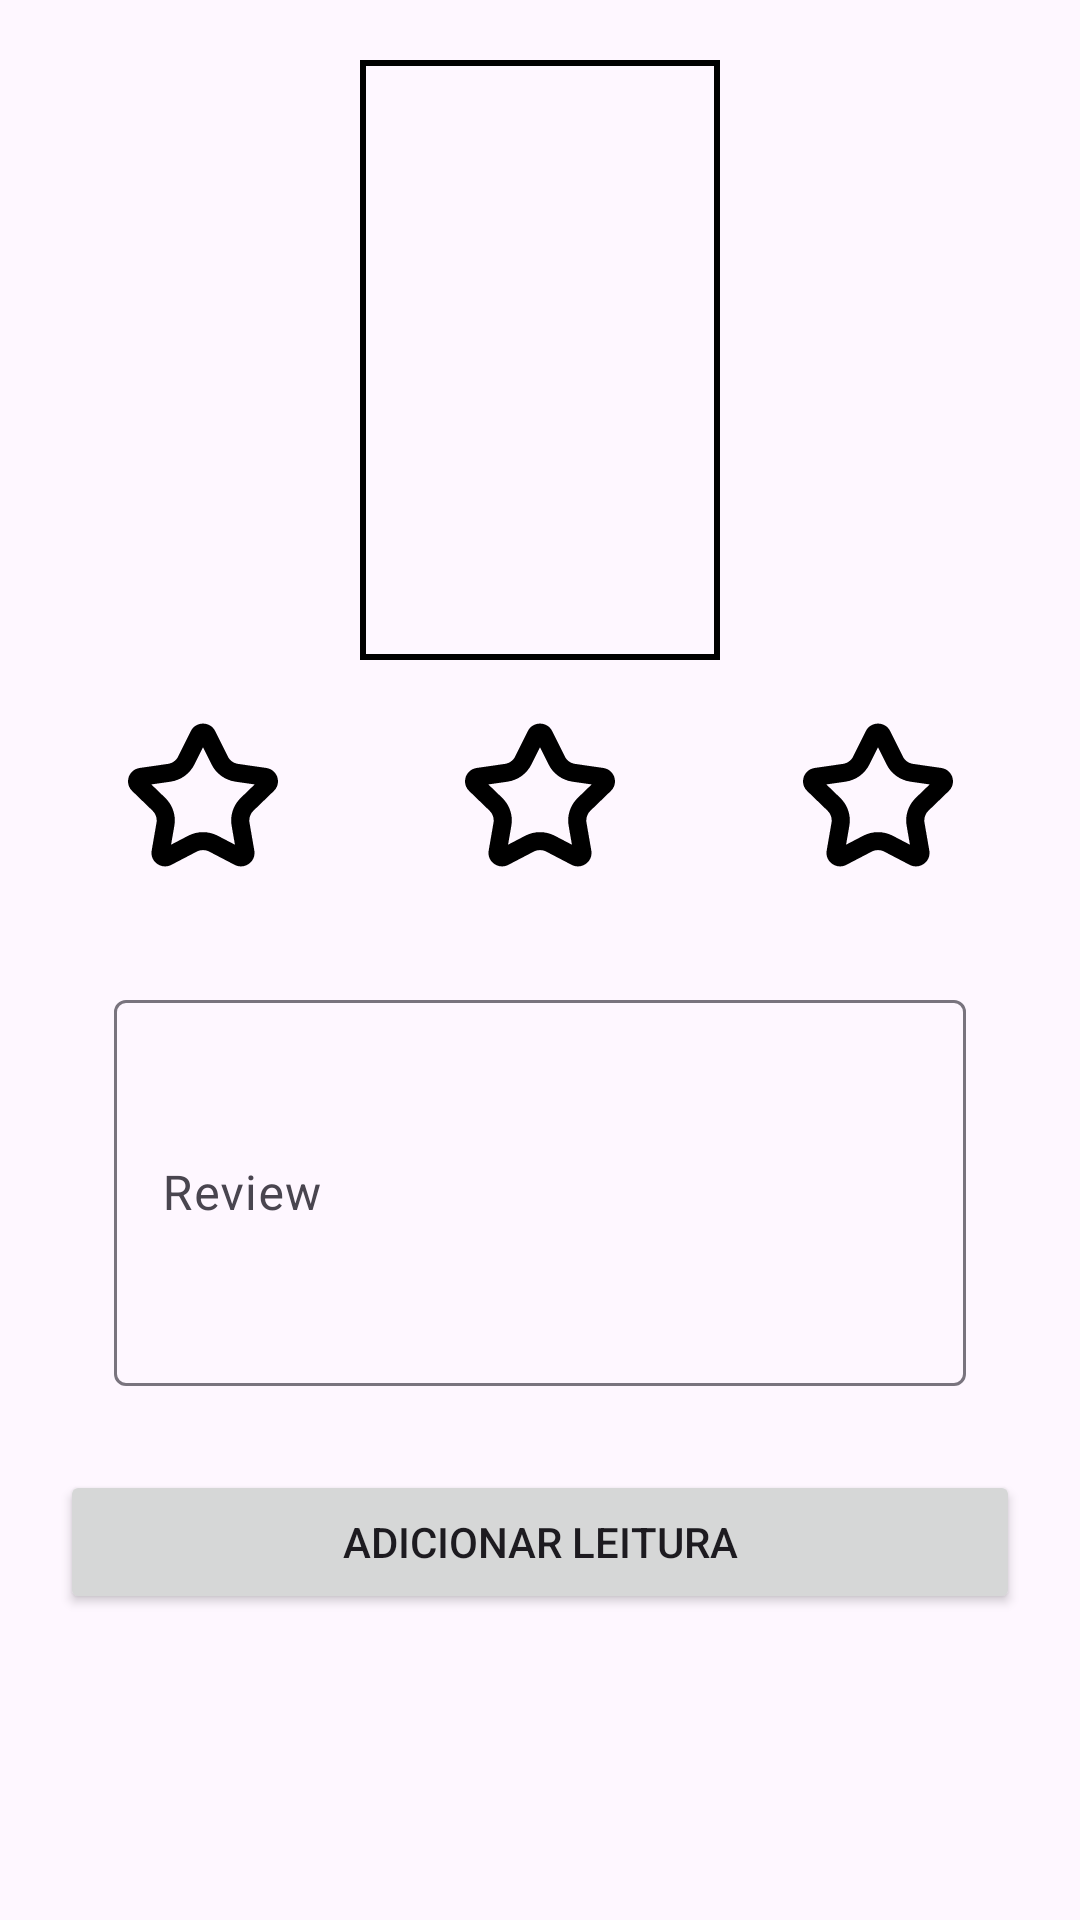

Icon bounding boxes for this 1080*1920 phone screenshot, format (x1, y1, x2, y2):
star empty: (128, 723, 278, 867), (465, 723, 615, 867), (803, 723, 953, 867)
